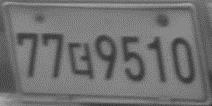0: (170, 37, 196, 82)
1: (145, 34, 169, 83)
5: (120, 34, 147, 83)
7: (15, 31, 40, 78), (41, 32, 65, 79)
9: (94, 34, 118, 80)
더: (66, 41, 95, 78)
